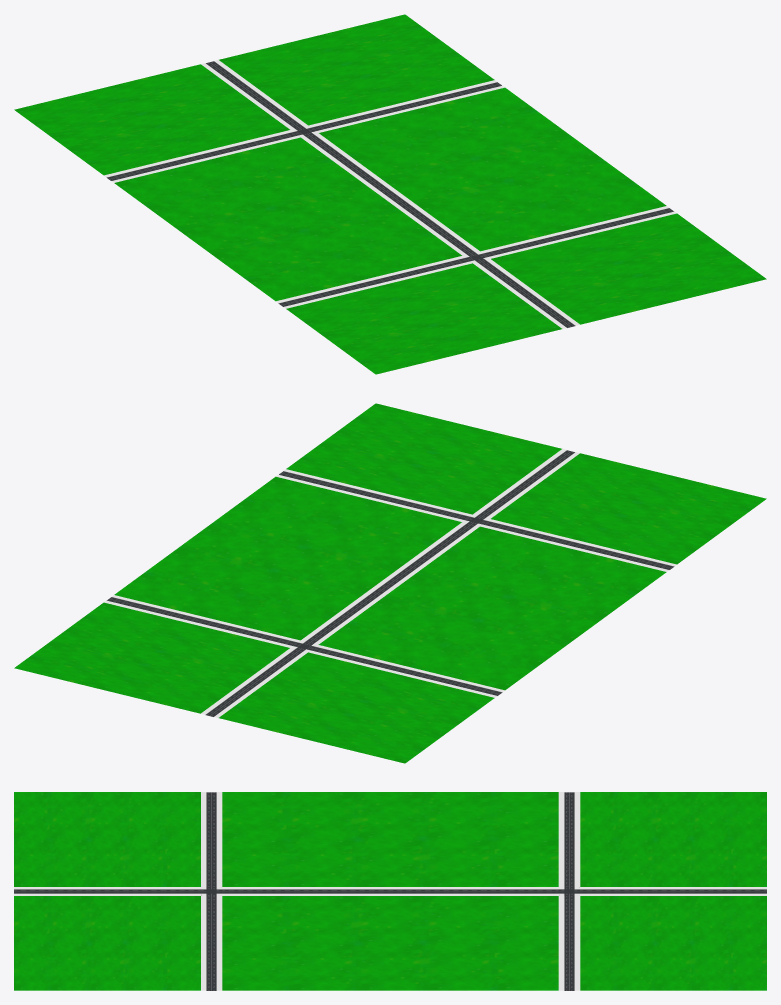
The model's file is mapfloorV4.fbx.
3 views of the same model, one above another, from view 1: azimuth 30°, elevation 25°; view 2: azimuth 150°, elevation 25°; view 3: azimuth 270°, elevation 25° (orthographic). The views are drawn at different scales.
Visible parts, largest first — view 1: pCube277; view 2: pCube277; view 3: pCube277.
Boxes of the visible parts, <box> form: pCube277: <box>14,14,766,374</box>; pCube277: <box>14,403,766,763</box>; pCube277: <box>14,792,766,990</box>.
Size of the model in its own units: 251 by 0.1293 by 403.
